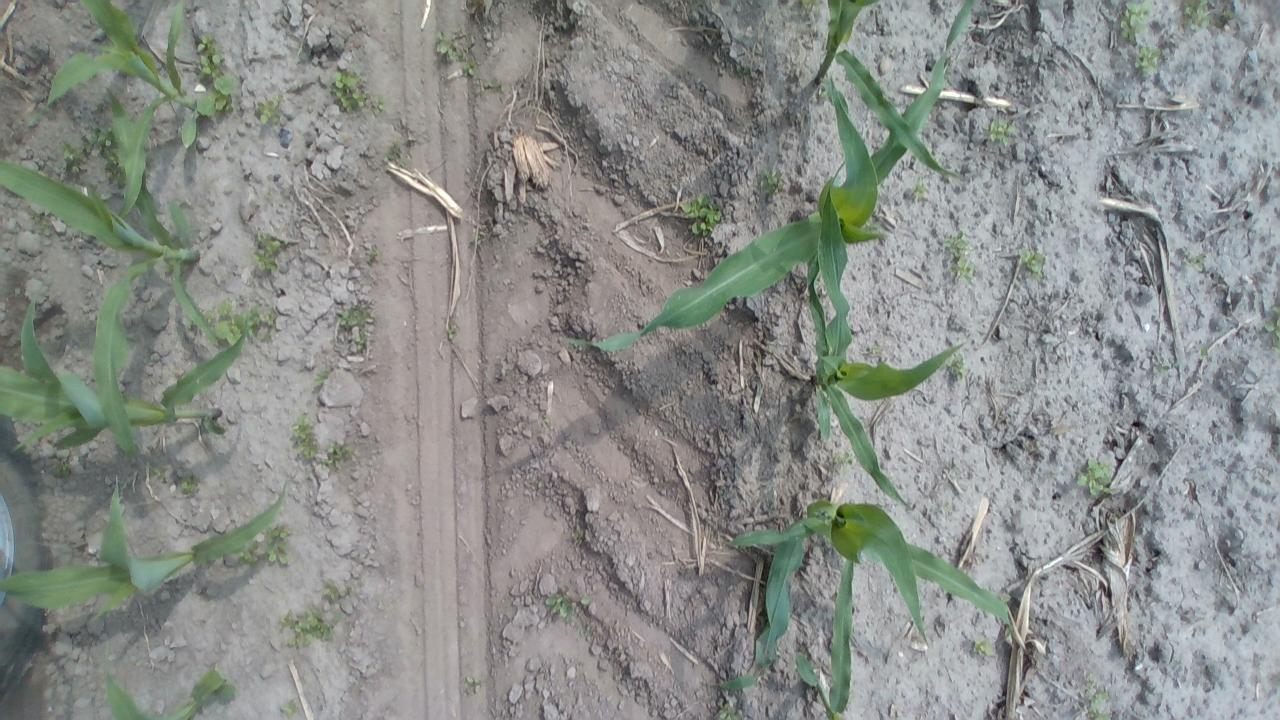Maize: (556, 2, 976, 356), (0, 91, 222, 459), (724, 501, 1022, 720), (804, 153, 972, 512), (0, 472, 290, 625), (0, 276, 249, 454), (46, 0, 212, 224), (812, 1, 974, 190), (103, 666, 237, 720)
Weeds: (328, 68, 388, 116), (84, 119, 128, 183), (275, 608, 340, 650), (200, 299, 250, 348), (1074, 454, 1122, 503), (336, 295, 376, 352), (544, 580, 596, 622), (939, 229, 976, 288), (678, 191, 724, 238), (194, 33, 235, 83), (182, 103, 227, 147), (250, 232, 290, 276), (1117, 0, 1154, 44), (1080, 676, 1116, 720), (1128, 42, 1166, 82), (288, 412, 318, 462), (262, 523, 294, 569), (202, 72, 240, 110), (983, 115, 1024, 150), (433, 28, 474, 61), (248, 303, 280, 344), (1178, 0, 1215, 35), (255, 91, 288, 127), (1017, 244, 1048, 282), (382, 138, 416, 172), (318, 440, 352, 471), (58, 142, 86, 178), (759, 164, 788, 198), (704, 699, 752, 719), (318, 576, 350, 604), (234, 539, 261, 569), (948, 349, 971, 384), (1260, 304, 1276, 350), (907, 174, 931, 204), (176, 472, 203, 497), (1181, 250, 1208, 274), (47, 458, 76, 480), (308, 364, 334, 388), (970, 634, 994, 660), (461, 672, 488, 694), (828, 448, 854, 470), (275, 697, 302, 717), (443, 320, 462, 344), (458, 59, 478, 80), (1152, 359, 1174, 378), (862, 338, 881, 358), (470, 227, 488, 248), (481, 76, 504, 92), (364, 241, 381, 262), (1196, 344, 1214, 362), (1219, 8, 1238, 25), (576, 624, 594, 640), (150, 463, 164, 478)
